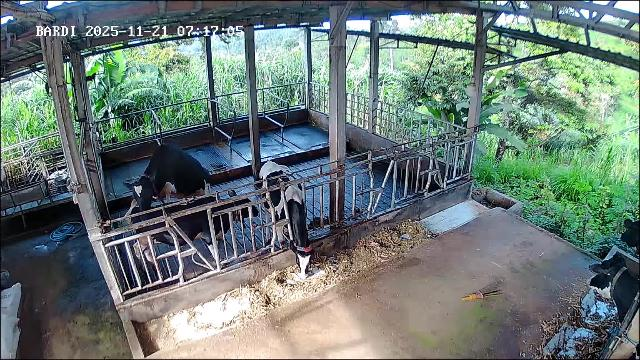mounting: (123, 142, 212, 227)
